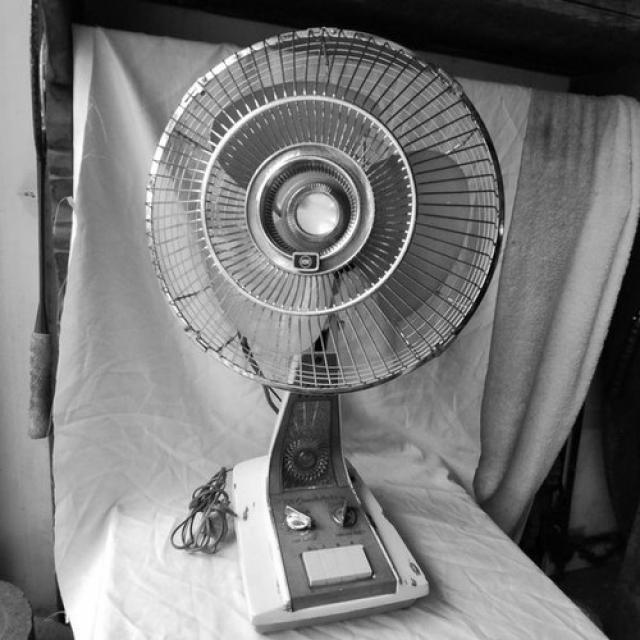fan: (144, 27, 514, 393)
